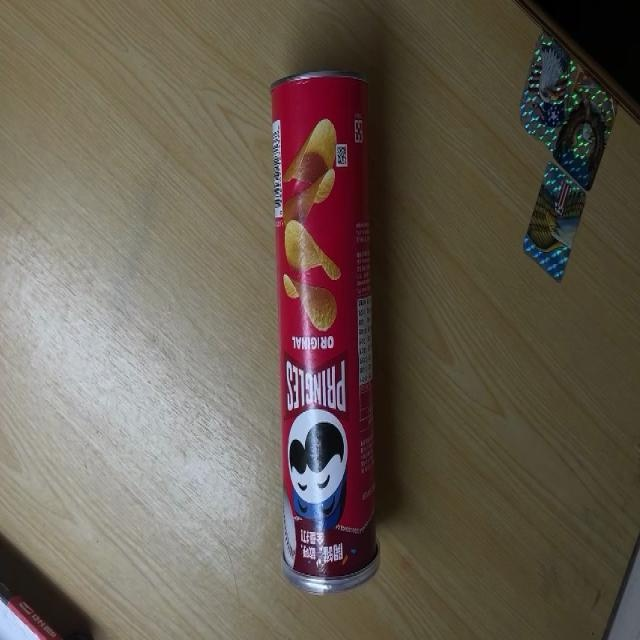Pringles: (270, 69, 380, 594)
